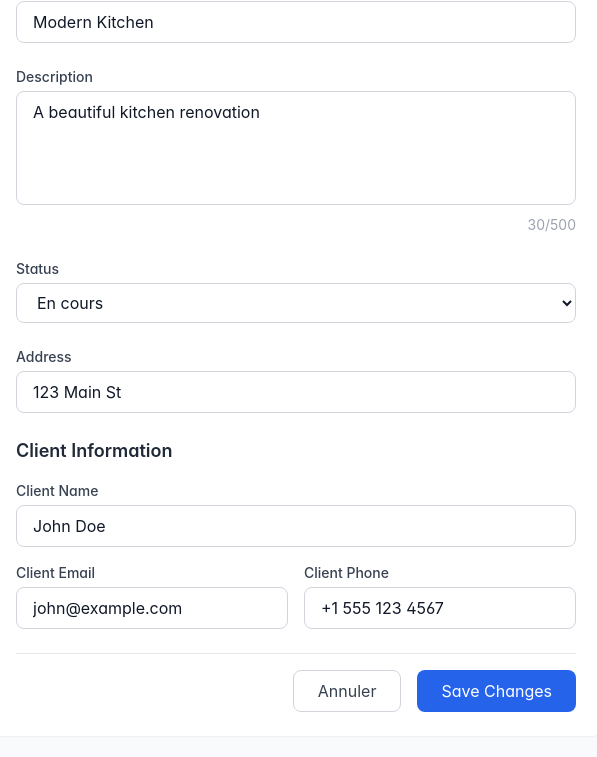
ProjectEdit › Form Validation › should show error for invalid phone format
This screenshot has width=597, height=757.
(page scrolled)
Step 1. Replace the text in the field labelled "Client Phone" with "abc" → (440, 608), box [304, 587, 576, 629]
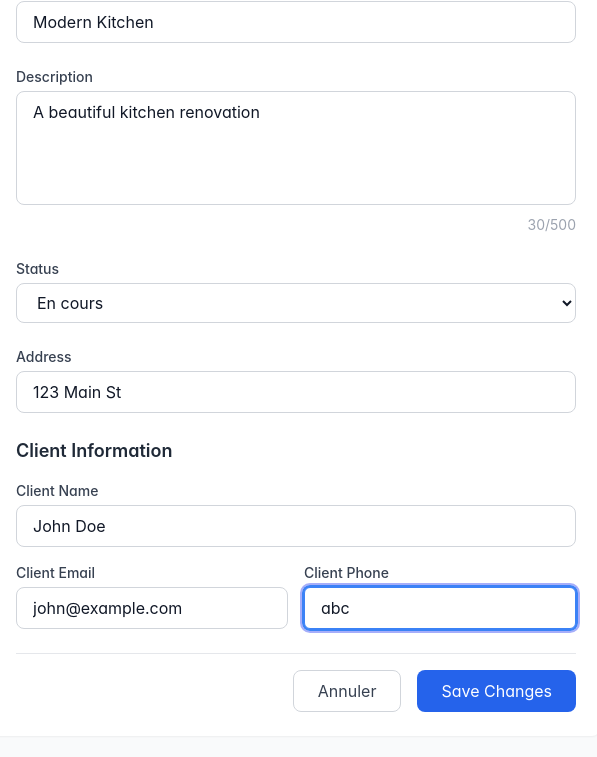
Step 2. Click the button "Save Changes" → (497, 691), box [417, 670, 576, 712]
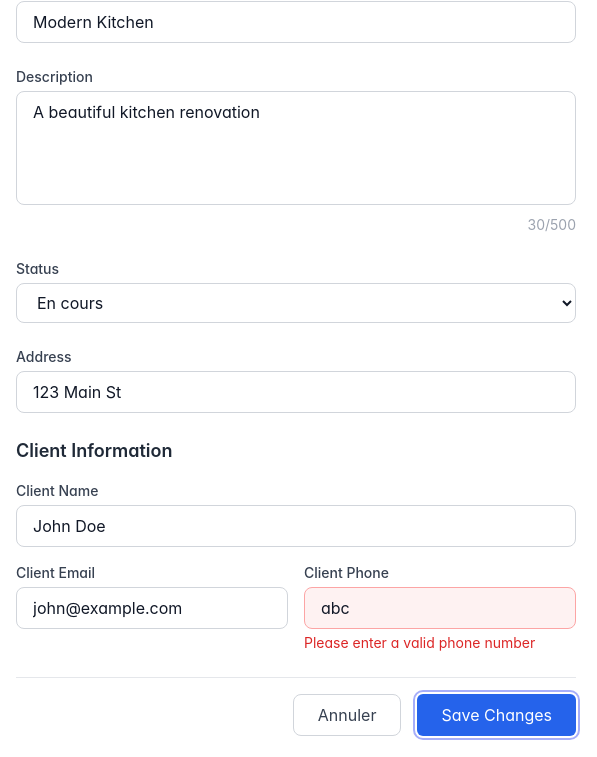
expect the text "Please enter a valid phone number" is shown: met, box [304, 633, 576, 653]
